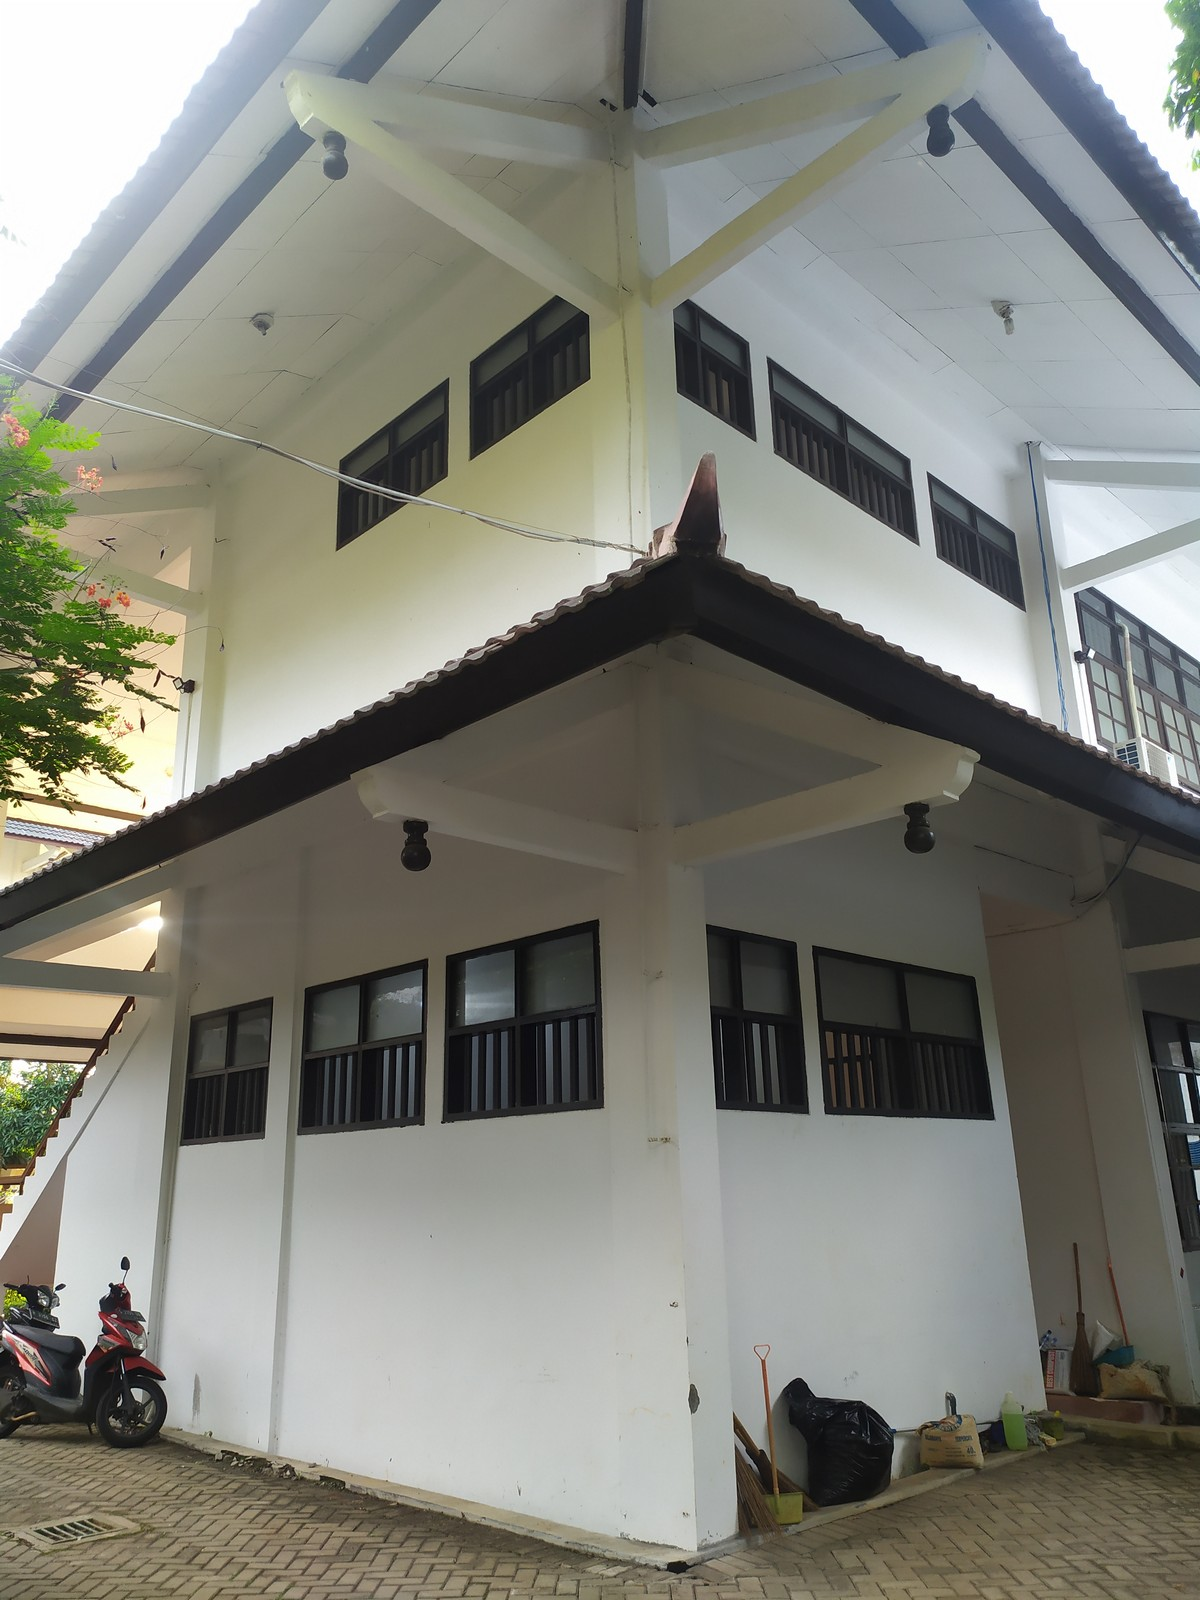concrete beam: (661, 787, 891, 874), (453, 794, 663, 882)
concrete column: (586, 734, 756, 1558), (577, 96, 692, 563), (175, 475, 242, 796)
